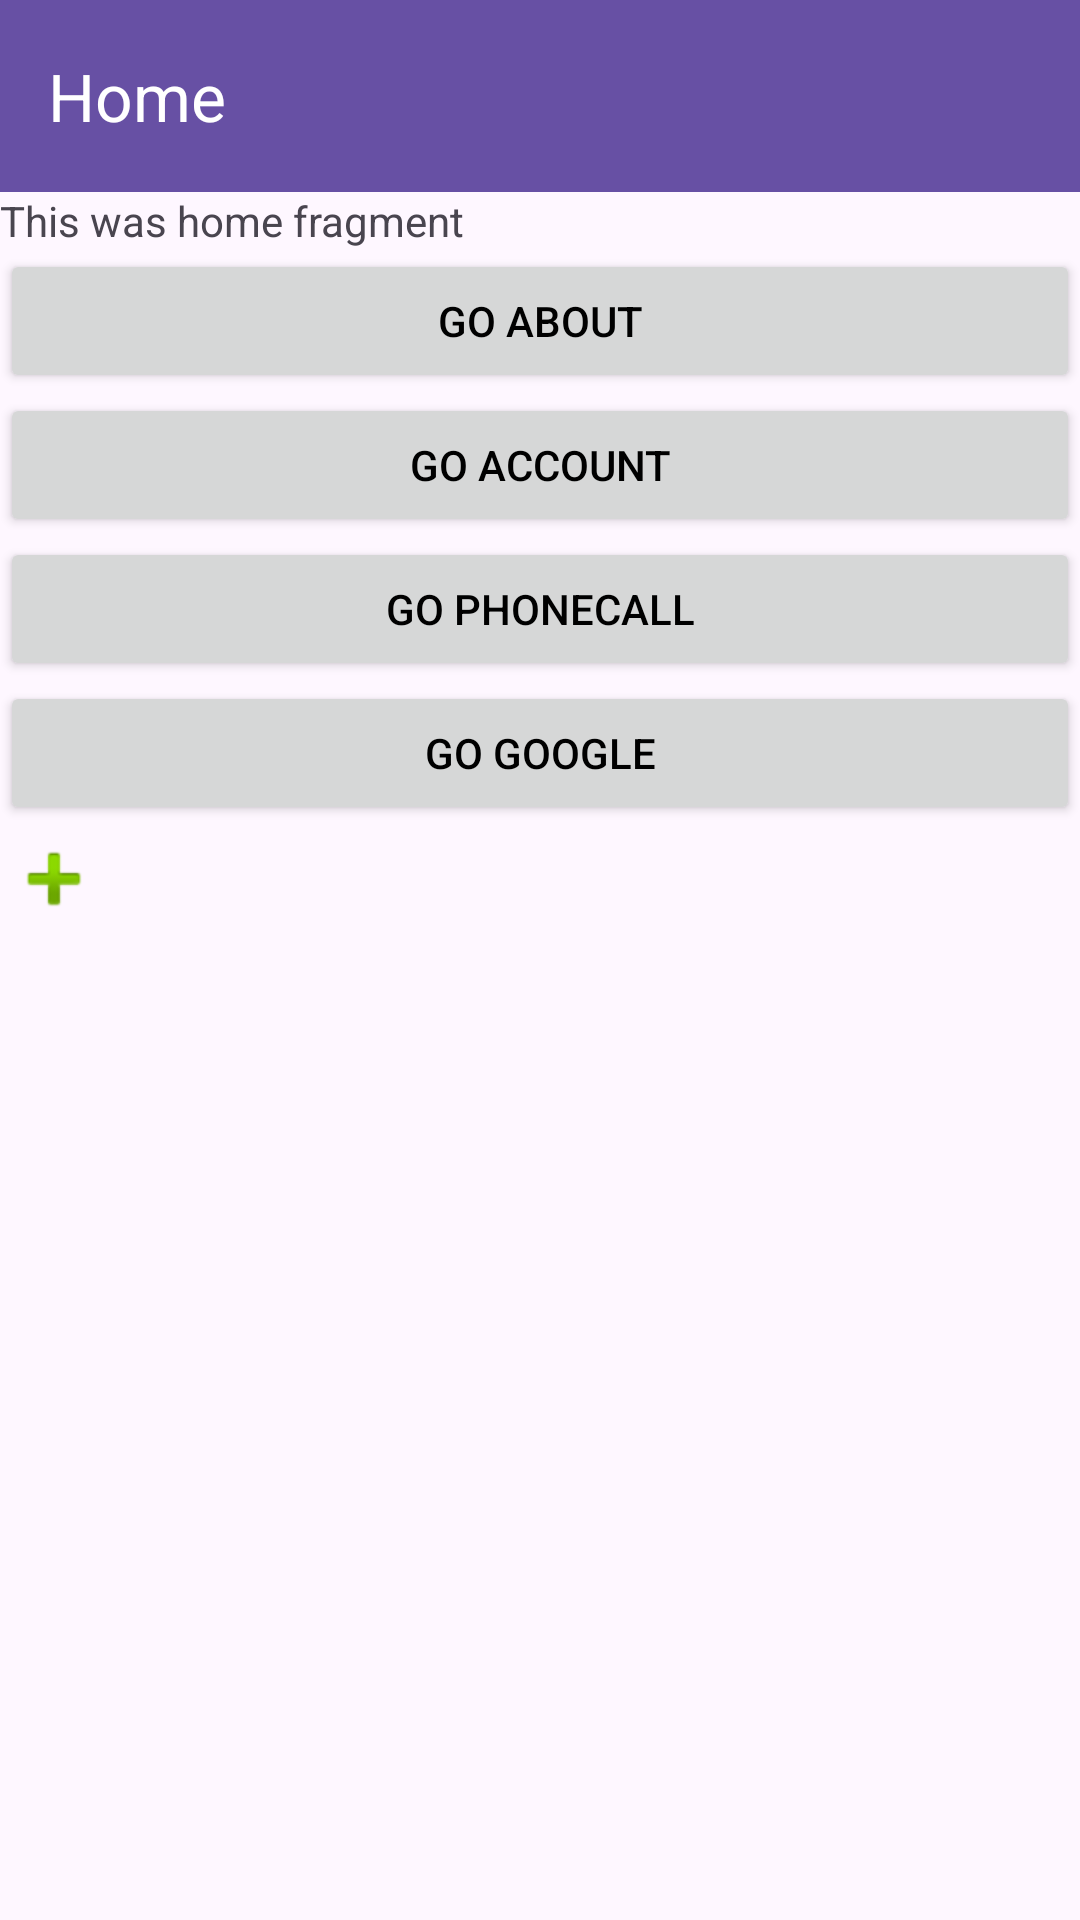

Screen size 1080×1920. Icon name, then its center in pixels as [x,y]:
Add: [54,879]
